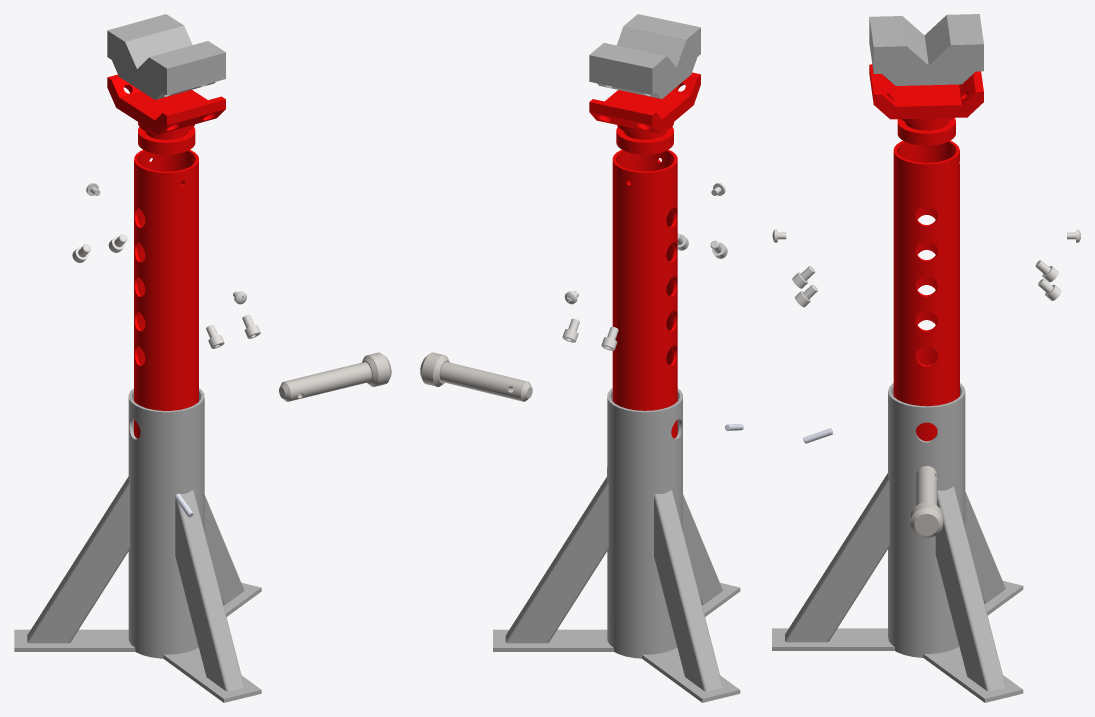
File: car_vault.glb
3 renders of one model, left to right at view 1: azimuth 30°, elevation 25°; view 2: azimuth 150°, elevation 25°; view 3: azimuth 270°, elevation 25°, orthographic.
Parts seen in each view (by area): view 1: Body_1 (×4), 3DGeom-122; view 2: Body_1 (×4), 3DGeom-122; view 3: Body_1 (×4), 3DGeom-122.
Part boxes in pixels (x1=…): Body_1 (×4): x1=14, y1=14, x2=261, y2=702; 3DGeom-122: x1=279, y1=355, x2=391, y2=401; Body_1 (×4): x1=493, y1=14, x2=740, y2=702; 3DGeom-122: x1=420, y1=354, x2=532, y2=401; Body_1 (×4): x1=772, y1=14, x2=1023, y2=702; 3DGeom-122: x1=910, y1=466, x2=943, y2=537.
Bounding box in the file's own units: 0.3638 × 0.6101 × 0.2796.
